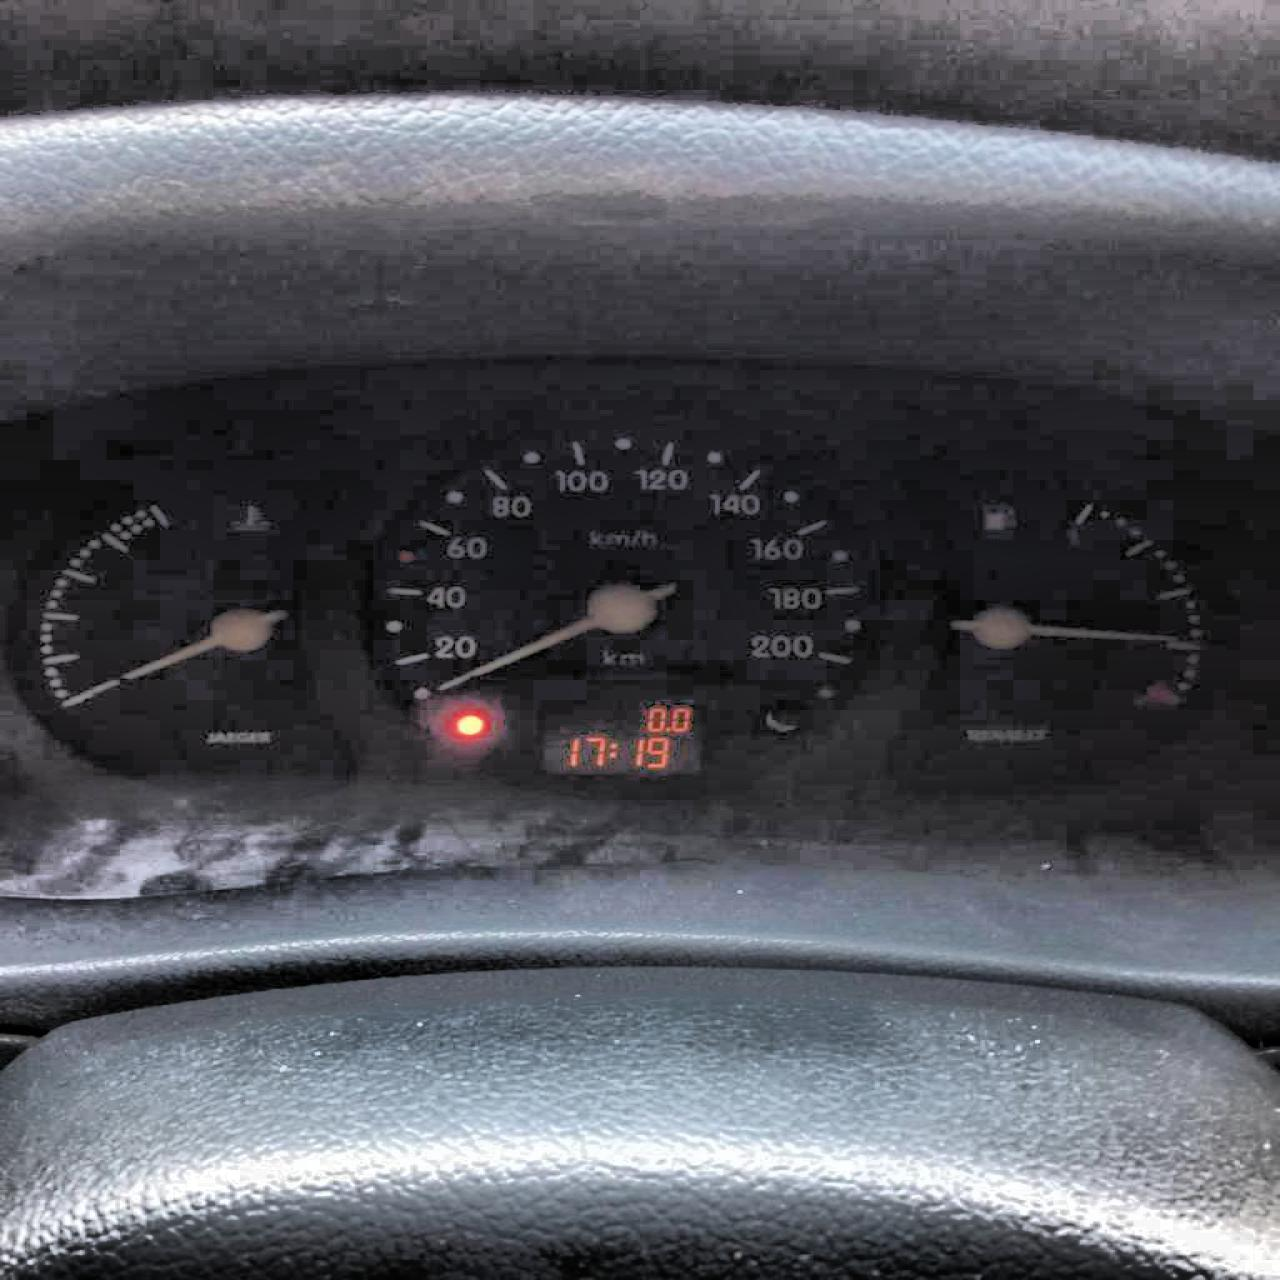-: (663, 726, 669, 733)
0: (670, 707, 690, 731), (645, 704, 663, 730)
1: (633, 735, 644, 770), (567, 735, 578, 769)
7: (584, 735, 605, 768)
9: (647, 735, 670, 765)
X: (605, 738, 621, 760)
odometer: (532, 695, 706, 777)
